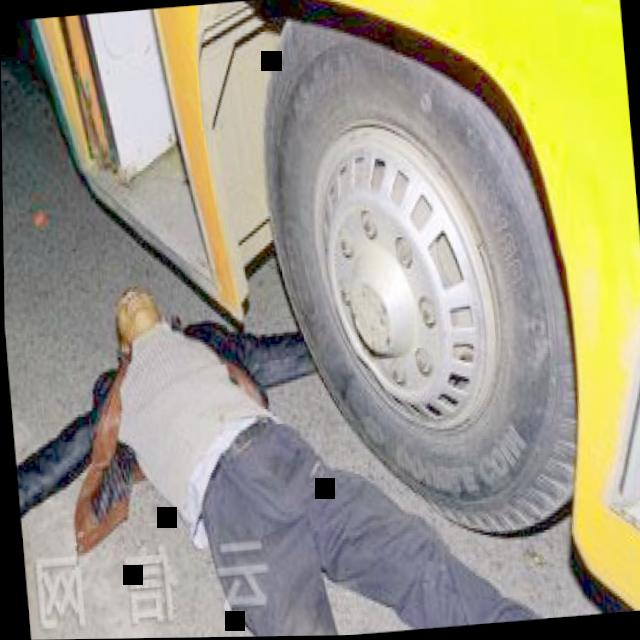Fall-Detected: (36, 224, 640, 640)
